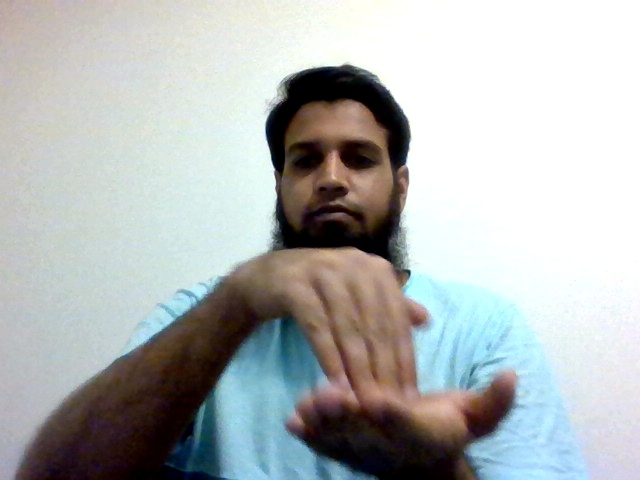again: (230, 244, 522, 474)
